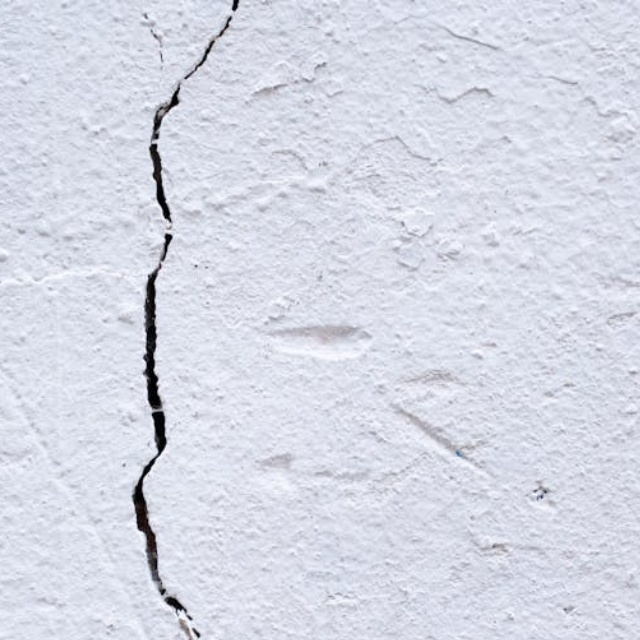细微裂纹: (39, 48, 184, 640), (143, 0, 302, 492), (97, 71, 226, 640), (78, 124, 210, 640), (50, 0, 175, 481), (108, 0, 207, 508), (86, 104, 180, 592), (115, 251, 218, 640), (94, 367, 232, 640), (109, 0, 214, 307)
